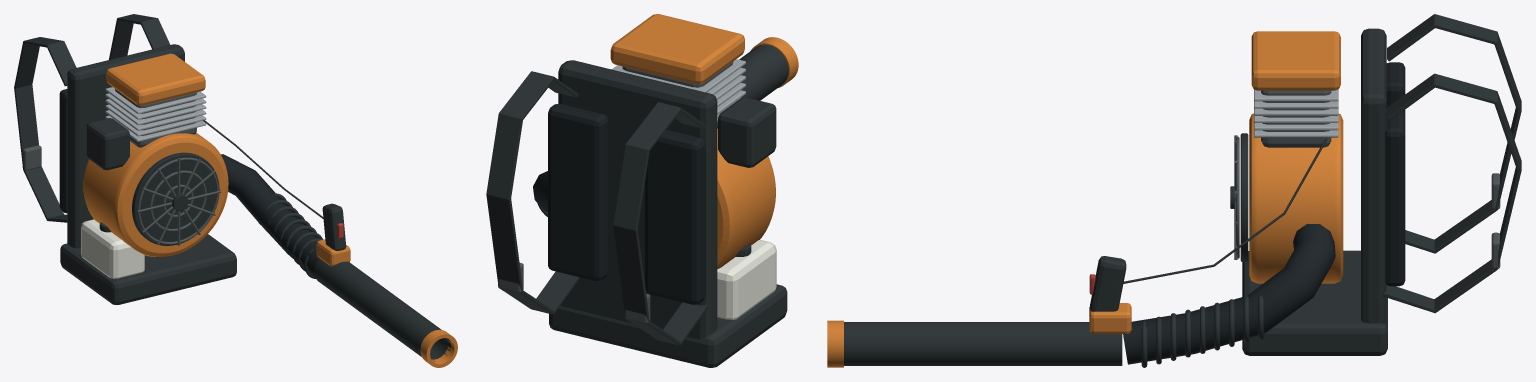
Rendered from city-backpack-leaf-blower.glb.
3 renders of one model, left to right at view 1: azimuth 30°, elevation 25°; view 2: azimuth 150°, elevation 25°; view 3: azimuth 270°, elevation 25°, orthographic. The views are drawn at different scales.
Visible parts, largest first — view 1: Assembly | Graphite machine powder coat, Assembly | Warm orange blower polymer, Assembly | Non-marking rubber, Assembly | Rough cast iron, Assembly | Zinc plated steel, Assembly | Blank enamel indicator; view 2: Assembly | Graphite machine powder coat, Assembly | Non-marking rubber, Assembly | Warm orange blower polymer, Assembly | Blank enamel indicator, Assembly | Zinc plated steel, Assembly | Rough cast iron; view 3: Assembly | Graphite machine powder coat, Assembly | Warm orange blower polymer, Assembly | Non-marking rubber, Assembly | Zinc plated steel, Assembly | Rough cast iron.
Part boxes in pixels (left/top/right/bottom): Assembly | Graphite machine powder coat: left=14, top=14, right=451, bottom=361; Assembly | Warm orange blower polymer: left=83, top=53, right=457, bottom=367; Assembly | Non-marking rubber: left=59, top=89, right=319, bottom=277; Assembly | Rough cast iron: left=22, top=89, right=220, bottom=245; Assembly | Zinc plated steel: left=105, top=87, right=206, bottom=141; Assembly | Blank enamel indicator: left=81, top=219, right=144, bottom=278; Assembly | Graphite machine powder coat: left=486, top=44, right=788, bottom=367; Assembly | Non-marking rubber: left=533, top=103, right=705, bottom=304; Assembly | Warm orange blower polymer: left=610, top=14, right=798, bottom=268; Assembly | Blank enamel indicator: left=717, top=240, right=776, bottom=319; Assembly | Zinc plated steel: left=612, top=59, right=745, bottom=121; Assembly | Rough cast iron: left=498, top=61, right=733, bottom=323; Assembly | Graphite machine powder coat: left=844, top=14, right=1521, bottom=367; Assembly | Warm orange blower polymer: left=827, top=31, right=1343, bottom=367; Assembly | Non-marking rubber: left=1123, top=62, right=1405, bottom=364; Assembly | Zinc plated steel: left=1254, top=89, right=1338, bottom=137; Assembly | Rough cast iron: left=1234, top=90, right=1500, bottom=268.
Bounding box in the file's own units: 0.592 × 0.634 × 1.48.
